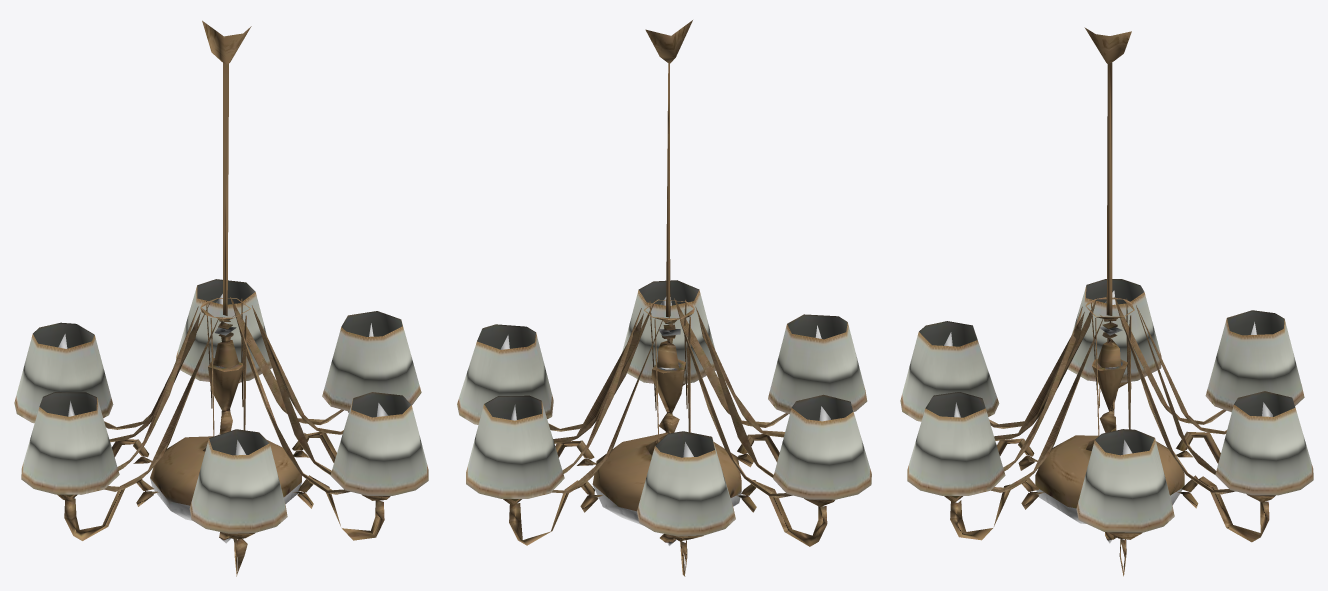
The model's file is chandelier.glb.
3 renders of one model, left to right at view 1: azimuth 30°, elevation 25°; view 2: azimuth 150°, elevation 25°; view 3: azimuth 270°, elevation 25°, orthographic.
Parts seen in each view (by area): view 1: chandelier; view 2: chandelier; view 3: chandelier.
Part boxes in pixels (x1,y1,x2,y2): chandelier: (14,20,428,576); chandelier: (457,20,871,576); chandelier: (900,27,1313,576).
Size of the model in its own units: 0.6693 by 0.8481 by 0.6123.
1 material, 1 textured.
